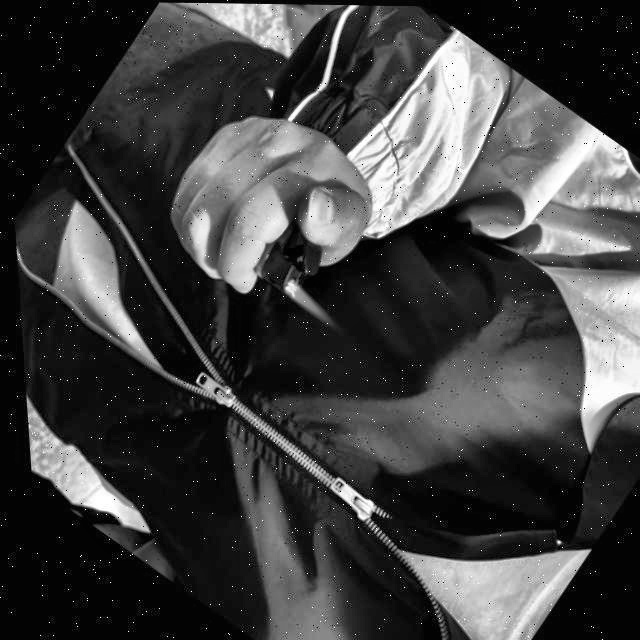Fire: (284, 283, 337, 327)
